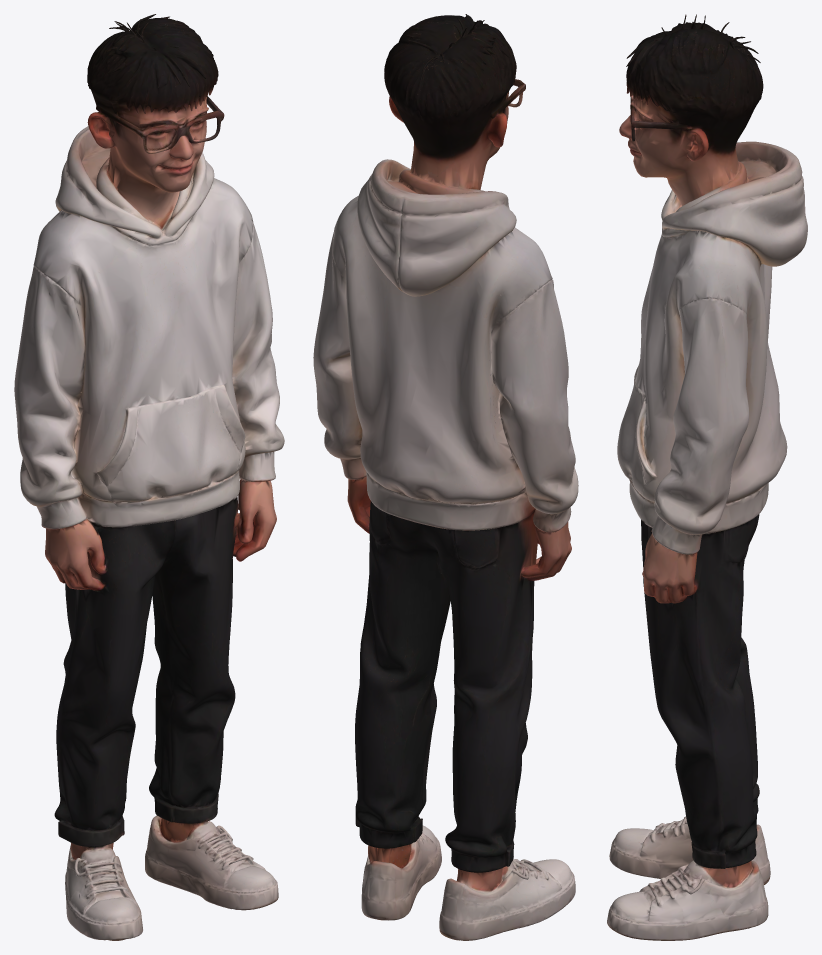
File: mood-05.glb
The picture shows the model from 3 angles, left to right: view 1: azimuth 30°, elevation 25°; view 2: azimuth 150°, elevation 25°; view 3: azimuth 270°, elevation 25°; orthographic projection.
Parts seen in each view (by area): view 1: node_0; view 2: node_0; view 3: node_0.
Part boxes in pixels (x1,y1,x2,y2): node_0: (14, 14, 284, 940); node_0: (313, 14, 578, 940); node_0: (607, 14, 807, 940).
Size of the model in its own units: 0.3484 by 1.17 by 0.2435.
Materials: 1 (1 with a texture image).
